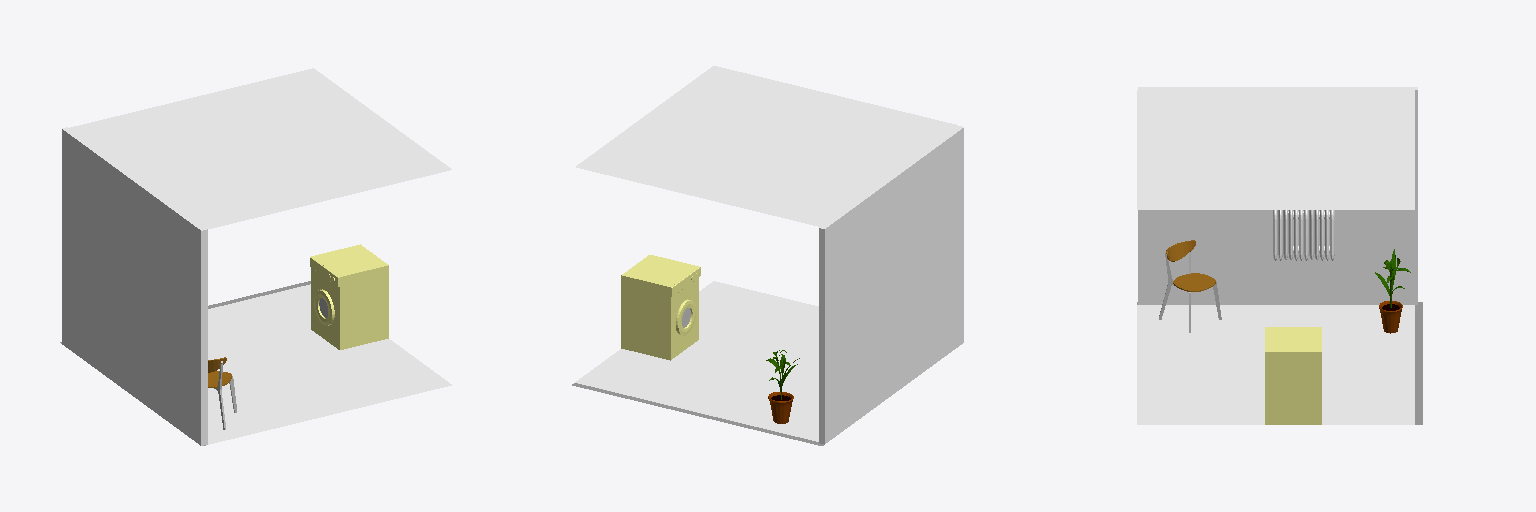
Rendered from ZonaRopas.obj.
3 renders of one model, left to right at view 1: azimuth 30°, elevation 25°; view 2: azimuth 150°, elevation 25°; view 3: azimuth 270°, elevation 25°, orthographic.
Parts seen in each view (by area): view 1: room_3_9, wall_2_5, room_3_8, Body_29, wall_2_4; view 2: room_3_9, wall_2_5, room_3_8, Body_29, ground_1, wall_2_4, Pot_16_65; view 3: room_3_9, room_3_8, wall_2_4, Body_29, ground_1, Seat_71, wall_2_7.
Boxes of the visible parts, <box> form: room_3_9: <box>70,68,451,228</box>; wall_2_5: <box>62,129,203,445</box>; room_3_8: <box>208,284,451,444</box>; Body_29: <box>311,244,388,349</box>; wall_2_4: <box>204,229,207,444</box>; room_3_9: <box>576,66,957,226</box>; wall_2_5: <box>822,128,963,444</box>; room_3_8: <box>575,281,818,441</box>; Body_29: <box>621,255,698,360</box>; ground_1: <box>572,383,823,445</box>; wall_2_4: <box>819,228,821,443</box>; Pot_16_65: <box>768,392,793,423</box>; room_3_9: <box>1137,90,1414,209</box>; room_3_8: <box>1137,305,1414,424</box>; wall_2_4: <box>1138,90,1417,304</box>; Body_29: <box>1265,328,1321,424</box>; ground_1: <box>1137,302,1422,424</box>; Seat_71: <box>1173,273,1215,291</box>; wall_2_7: <box>1138,87,1417,88</box>.
Size of the model in its own units: 305 by 250 by 300.